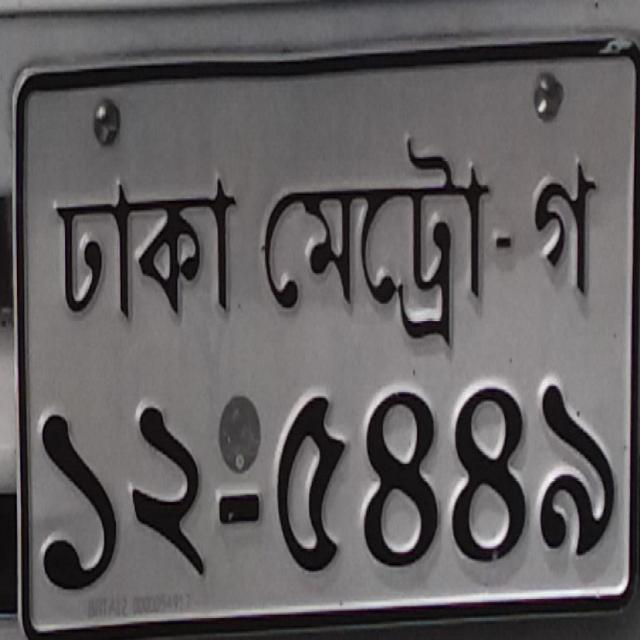numberplate: (7, 22, 637, 635)
